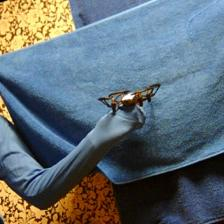drone: (99, 83, 159, 115)
